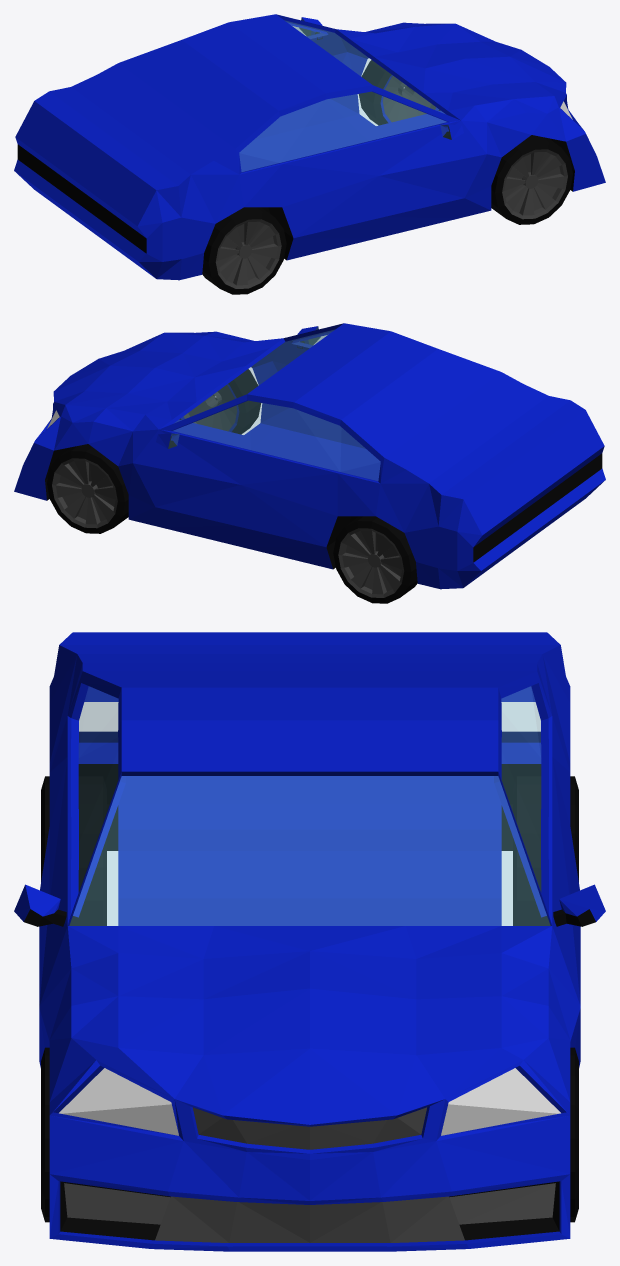
File: BlueCar2.obj
3 renders of one model, top to bottom at view 1: azimuth 30°, elevation 25°; view 2: azimuth 150°, elevation 25°; view 3: azimuth 270°, elevation 25°, orthographic. The views are drawn at different scales.
Visible parts, largest first — view 1: BlueCar_Material.636, BlueCar_Material.640, BlueCar_Material.638, BlueCar_Material.639; view 2: BlueCar_Material.636, BlueCar_Material.640, BlueCar_Material.638, BlueCar_Material.639; view 3: BlueCar_Material.636, BlueCar_Material.640, BlueCar_Material.641, BlueCar_Material.638, BlueCar_Material.637.
Boxes of the visible parts, box(x1,y1,x2,y2) form: BlueCar_Material.636: box(14, 14, 605, 280); BlueCar_Material.640: box(239, 18, 451, 171); BlueCar_Material.638: box(17, 28, 574, 294); BlueCar_Material.639: box(215, 76, 567, 288); BlueCar_Material.636: box(14, 323, 605, 589); BlueCar_Material.640: box(168, 327, 380, 480); BlueCar_Material.638: box(45, 337, 602, 603); BlueCar_Material.639: box(52, 385, 404, 597); BlueCar_Material.636: box(14, 632, 605, 1251); BlueCar_Material.640: box(69, 686, 550, 925); BlueCar_Material.641: box(64, 1107, 555, 1242); BlueCar_Material.638: box(24, 764, 595, 1240); BlueCar_Material.637: box(59, 1068, 560, 1135).
Size of the model in its own units: 4.14 by 1.35 by 2.3.
